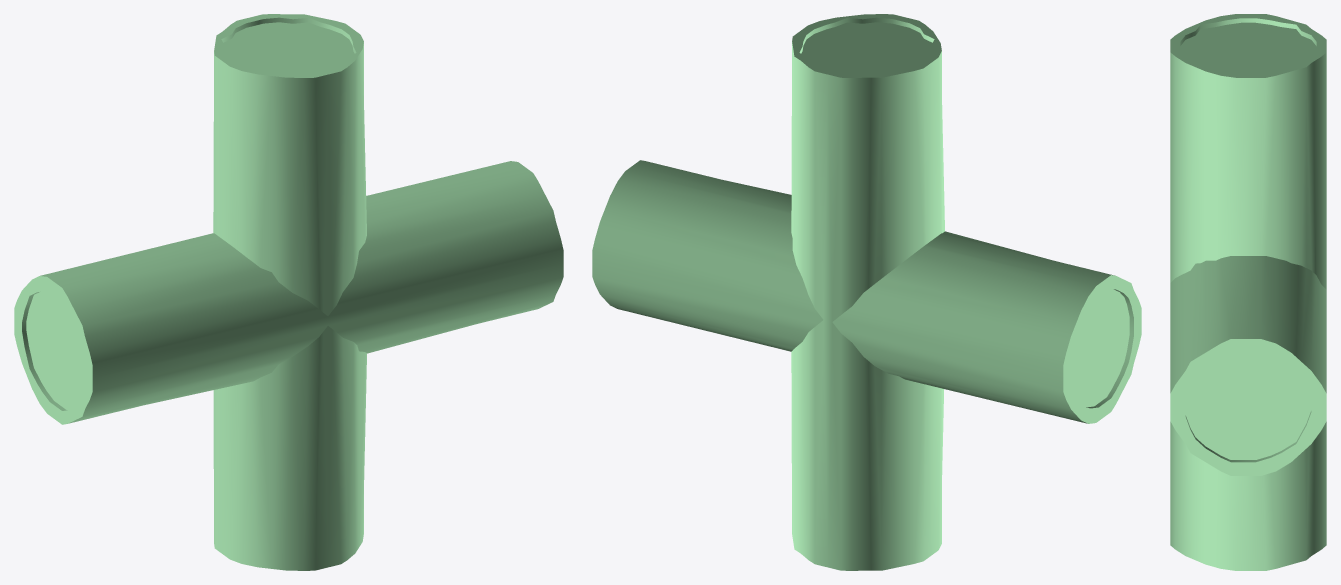
File: Spider isolated.gltf
The picture shows the model from 3 angles, left to right: view 1: azimuth 30°, elevation 25°; view 2: azimuth 150°, elevation 25°; view 3: azimuth 270°, elevation 25°; orthographic projection.
Visible parts, largest first — view 1: Spider; view 2: Spider; view 3: Spider.
Part boxes in pixels (bbox=[...]): Spider: bbox=[14, 14, 563, 570]; Spider: bbox=[592, 14, 1141, 570]; Spider: bbox=[1170, 14, 1326, 570].
Bounding box in the file's own units: 10.8 × 10.8 × 3.1.
